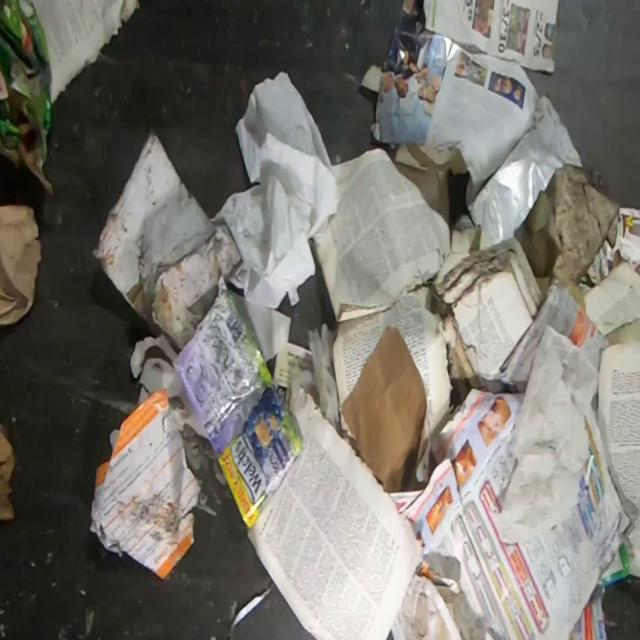cardboard: (0, 423, 18, 524)
soft_plastic: (171, 294, 306, 531)
